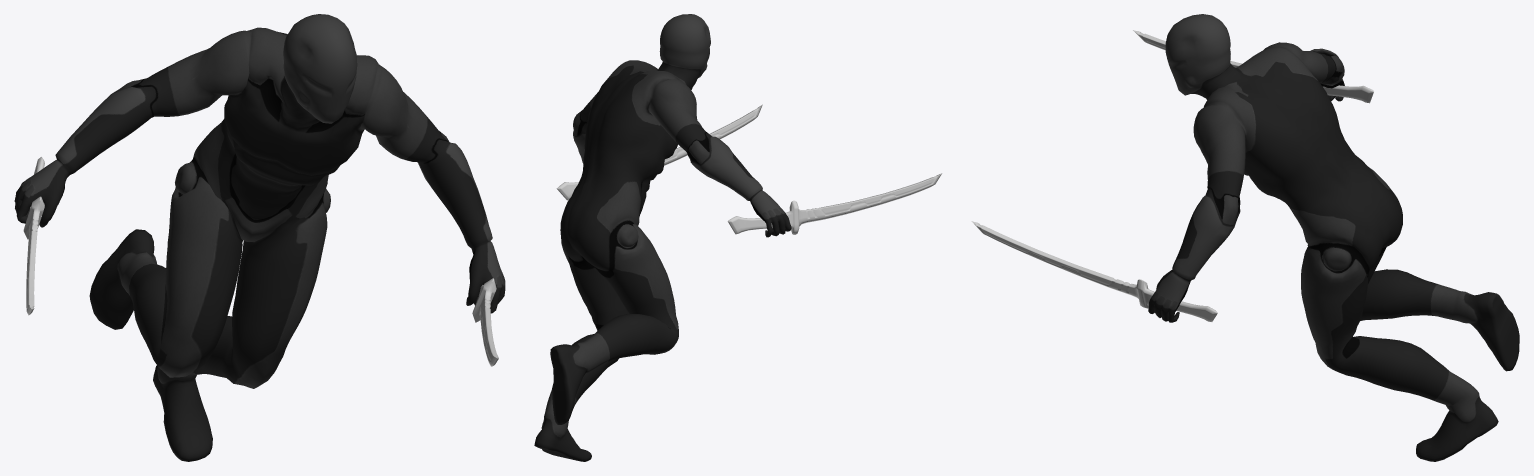
3 views of the same model, side by side, from view 1: azimuth 30°, elevation 25°; view 2: azimuth 150°, elevation 25°; view 3: azimuth 270°, elevation 25° (orthographic). The views are drawn at different scales.
Visible parts, largest first — view 1: Cyborg_Ninja_Killer, Sword_l001, Sword_l; view 2: Cyborg_Ninja_Killer, Sword_l001, Sword_l; view 3: Cyborg_Ninja_Killer, Sword_l, Sword_l001.
Boxes of the visible parts, x1,y1,x2,y2 form: Cyborg_Ninja_Killer: (14, 14, 505, 461); Sword_l001: (23, 157, 44, 315); Sword_l: (472, 278, 498, 366); Cyborg_Ninja_Killer: (534, 14, 791, 461); Sword_l001: (727, 173, 942, 234); Sword_l: (556, 104, 762, 200); Cyborg_Ninja_Killer: (1148, 14, 1519, 461); Sword_l: (971, 221, 1217, 321); Sword_l001: (1133, 30, 1373, 103).
Bounding box in the file's own units: 147 × 150 × 173.
